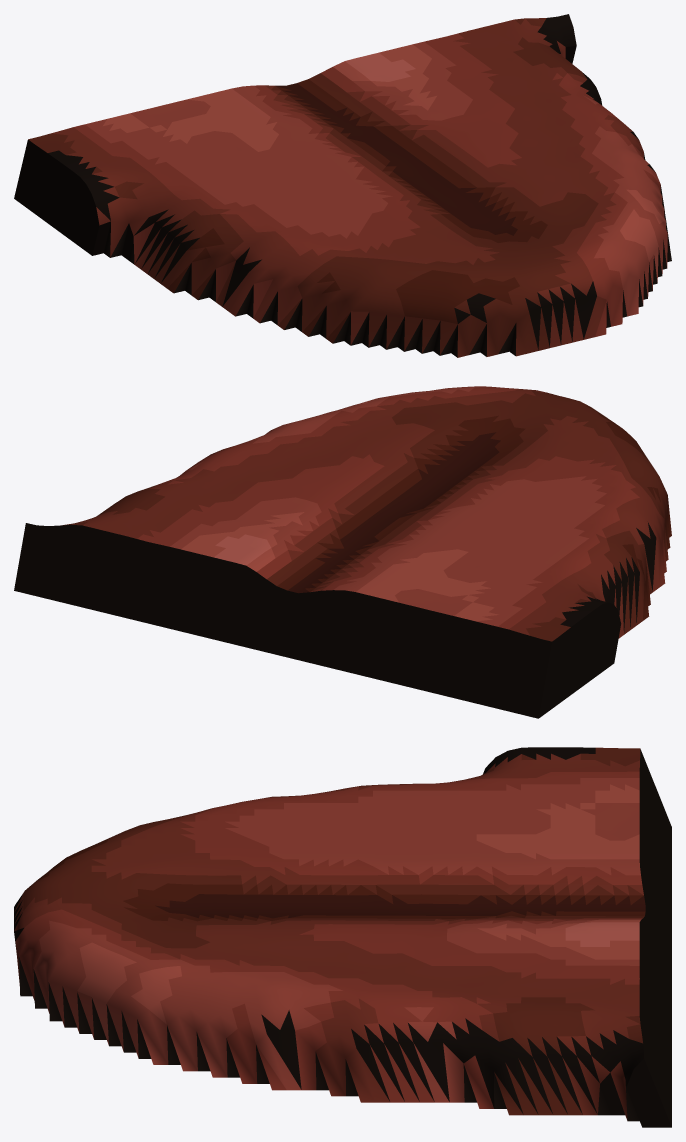
The model's file is nosedrip_tongue.glb.
The picture shows the model from 3 angles, top to bottom: view 1: azimuth 30°, elevation 25°; view 2: azimuth 150°, elevation 25°; view 3: azimuth 270°, elevation 25°; orthographic projection. The views are drawn at different scales.
Parts seen in each view (by area): view 1: nosedrip_tongue; view 2: nosedrip_tongue; view 3: nosedrip_tongue.
Part boxes in pixels (<box>): nosedrip_tongue: <box>14,14,671,357</box>; nosedrip_tongue: <box>14,386,671,718</box>; nosedrip_tongue: <box>14,747,671,1127</box>.
Size of the model in its own units: 24 by 3 by 22.21.
